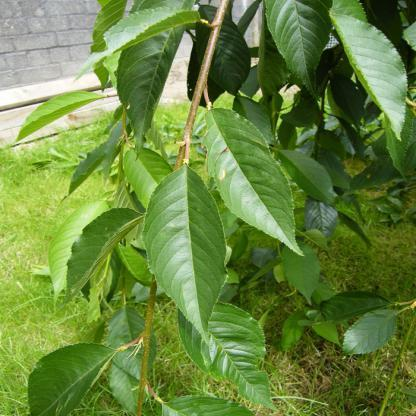Cherry leaf: (140, 152, 240, 360), (193, 99, 312, 261), (71, 4, 217, 83), (53, 204, 150, 312), (18, 342, 131, 416), (298, 293, 404, 368), (8, 88, 110, 148)
